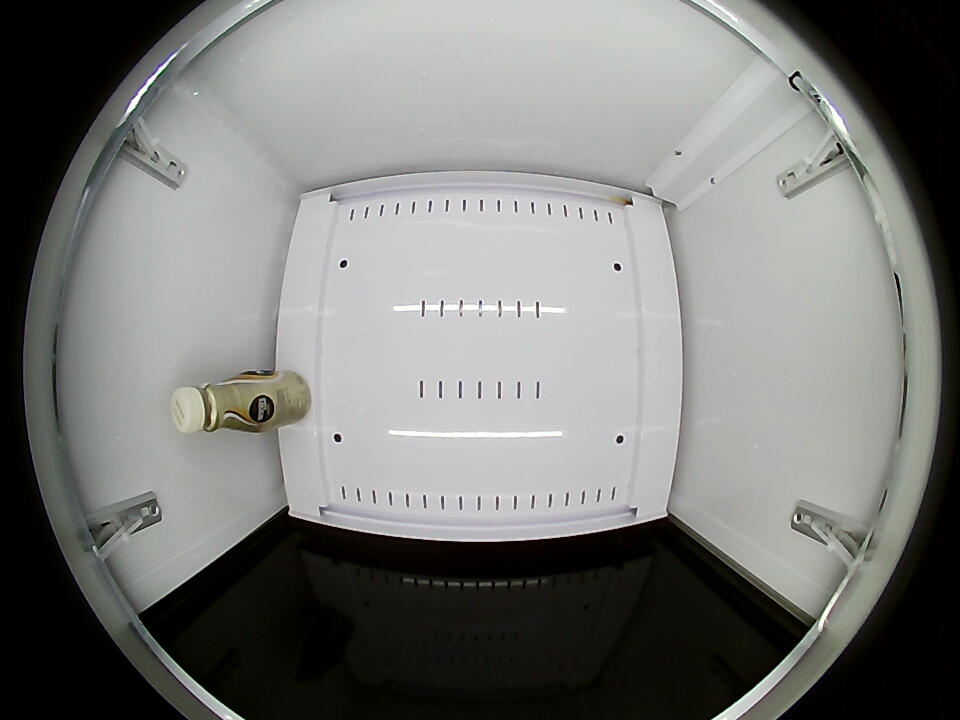kafei: (171, 373, 263, 436)
